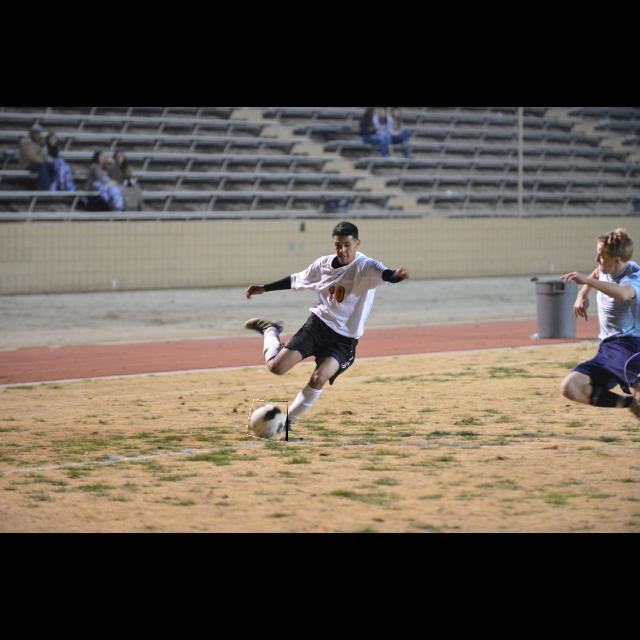Football: (248, 401, 288, 441)
